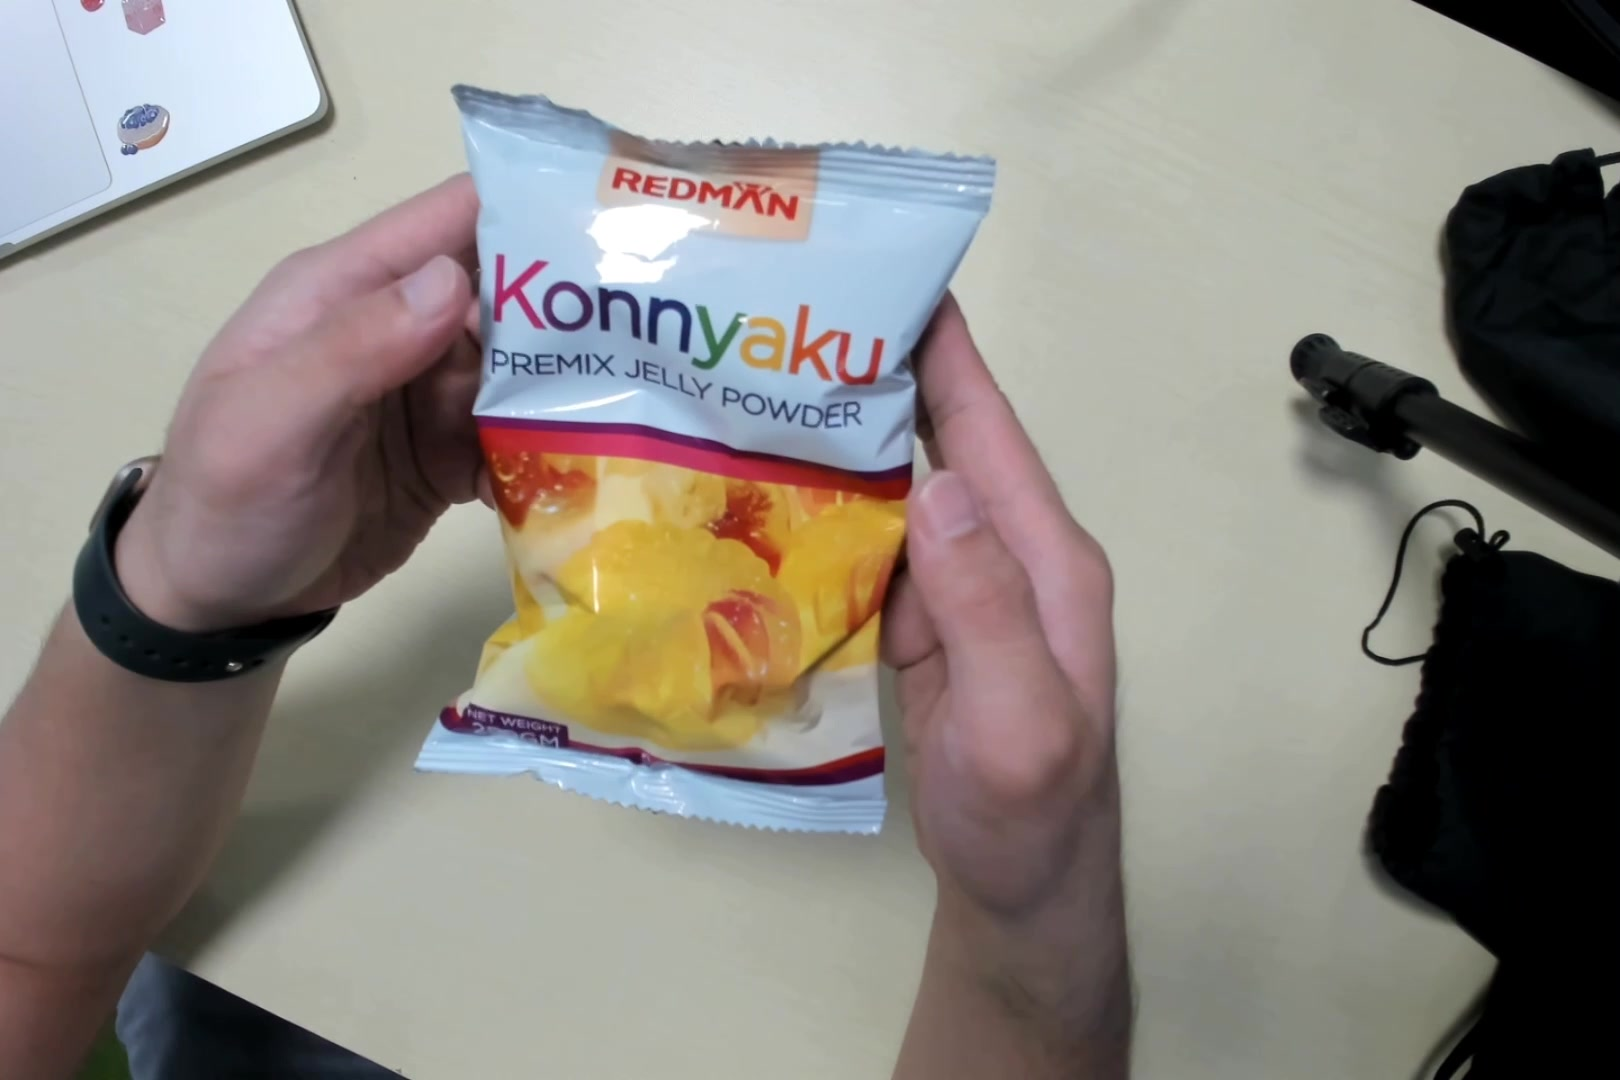OtherBakingNeeds_200-299g_Halal_NonHealthy: (424, 94, 990, 843)
